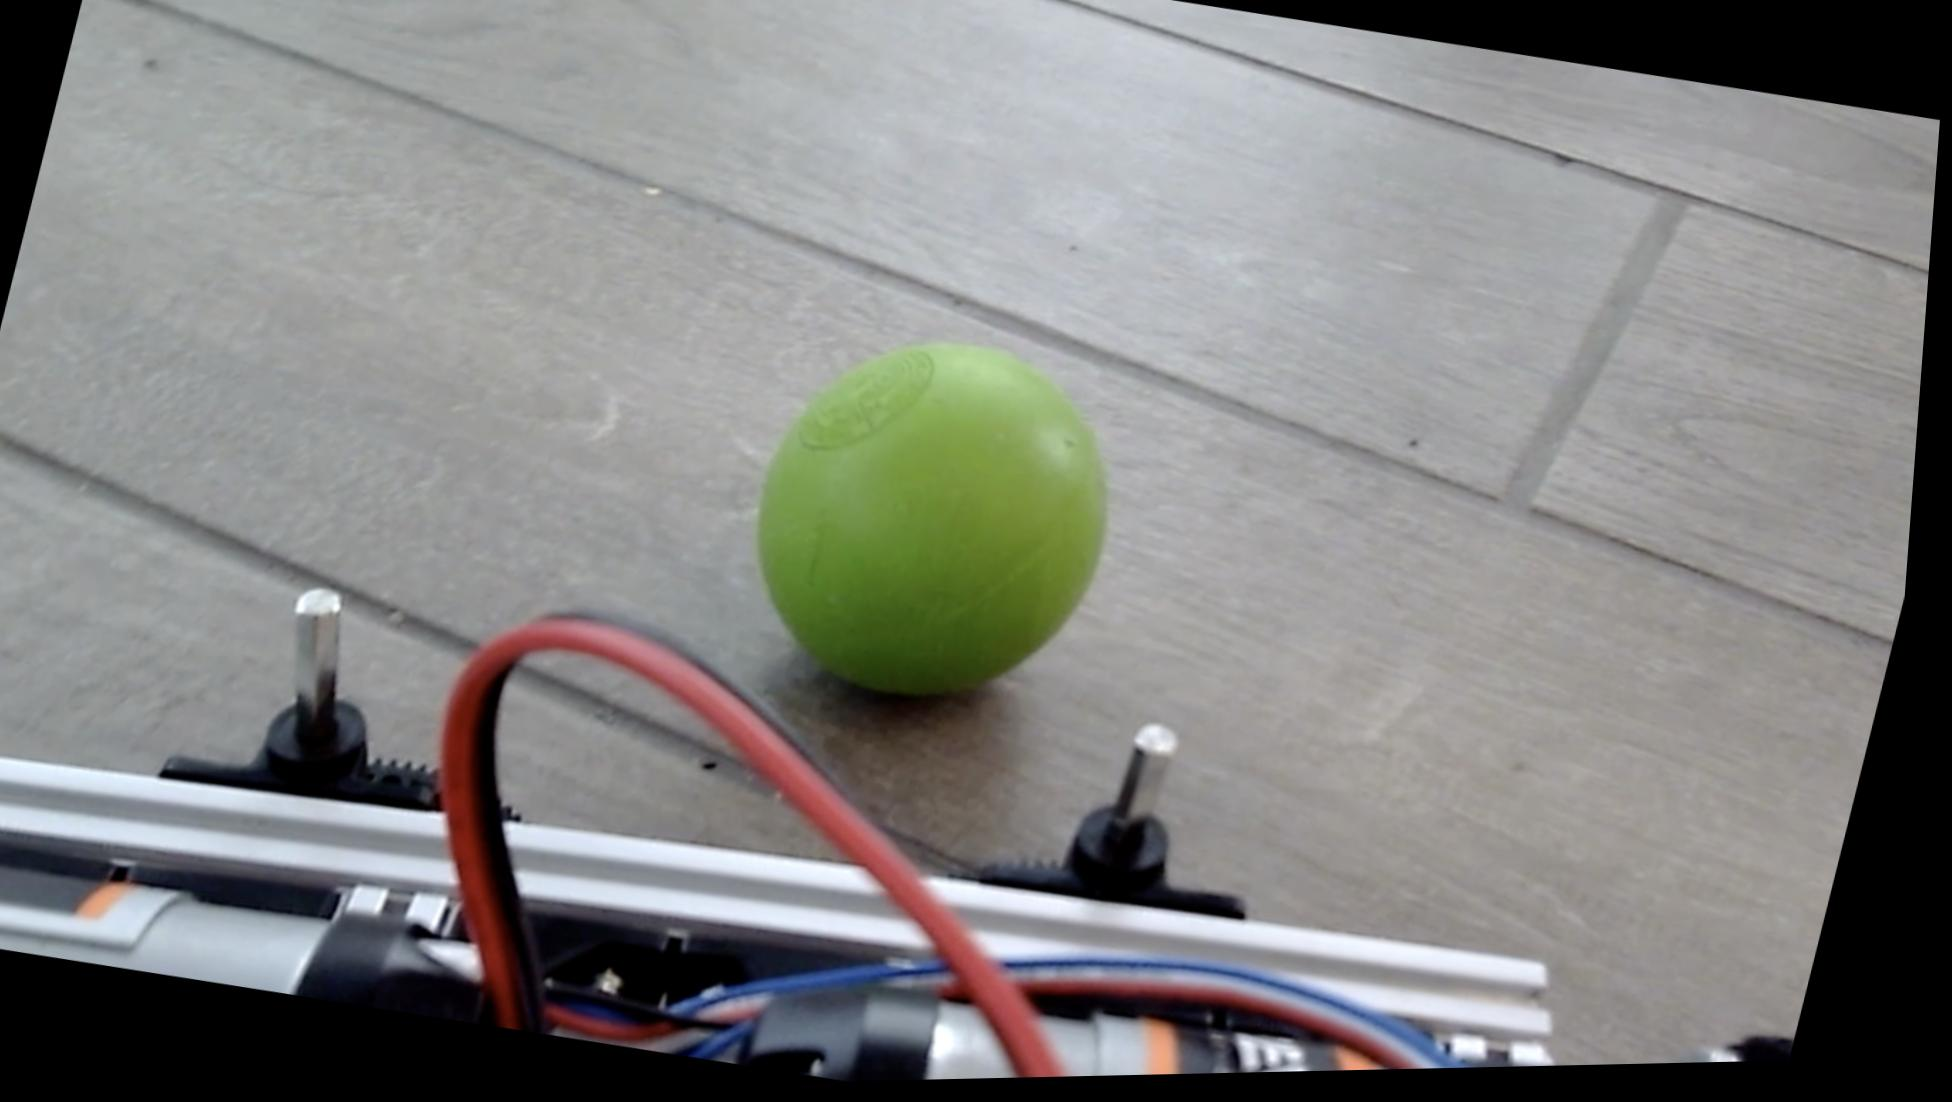greenball: (721, 310, 1160, 735)
